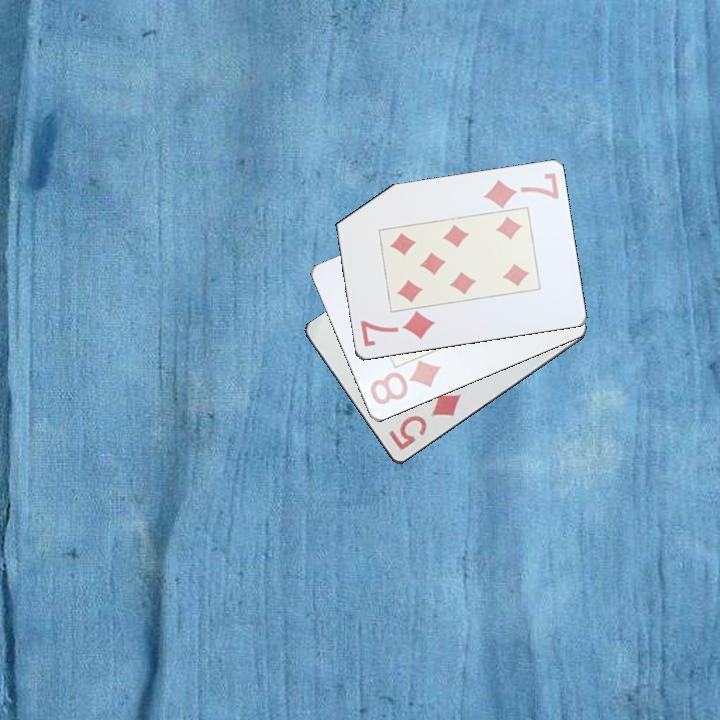5d: (385, 389, 464, 454)
7d: (356, 308, 438, 350), (479, 169, 562, 210)
8d: (366, 358, 444, 408)
